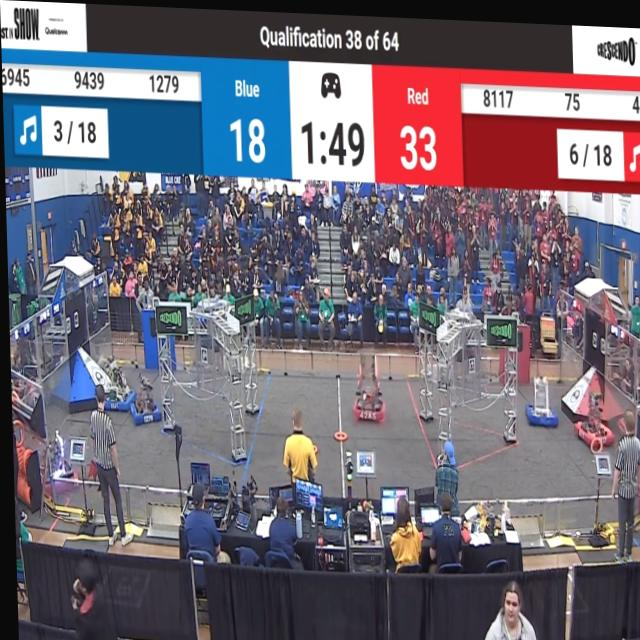Robot: (567, 368, 607, 449), (348, 349, 386, 427), (41, 424, 78, 495), (97, 350, 130, 415), (523, 366, 556, 428), (127, 368, 158, 427)
